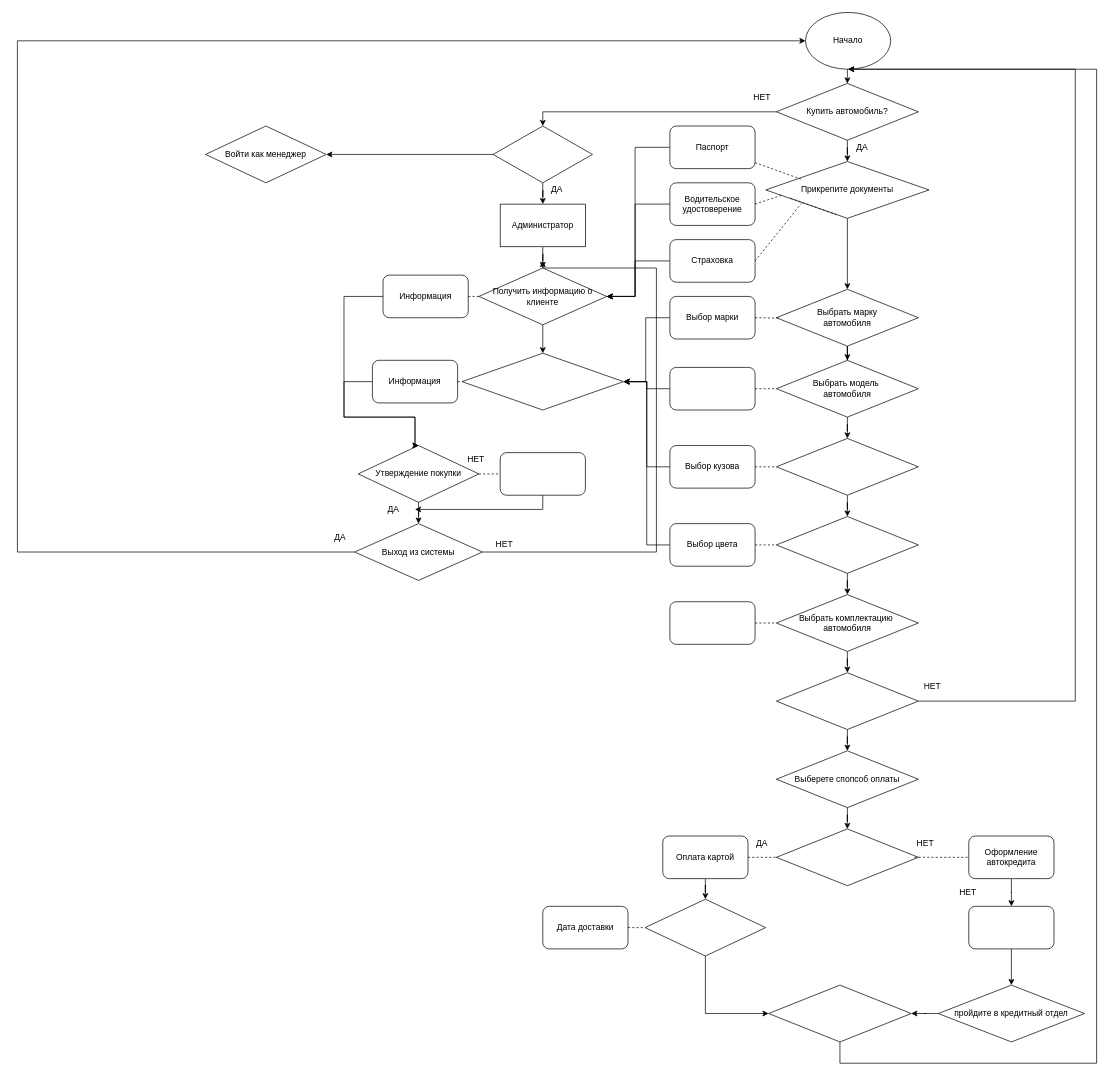
This 1115x1081 diagram has some shape labels left out. The centre of each missing label's shape, as x and y in pixels:
"Войти как администратор?" belongs at point 542,154.
"Выберите дату доставки" belongs at point 705,927.
"Выбор комплектации" belongs at point 712,622.
"Выбор модели" belongs at point 712,388.
"Выбрать кузов автомобиля" belongs at point 847,466.
"Выбрать цвет автомобиля" belongs at point 847,544.
"Готовы осуществить покупку*" belongs at point 847,701.
"Закончить покупку" belongs at point 839,1013.
"Комментарий" belongs at point 542,473.
"Оплатить картой" belongs at point 847,857.
"Оформление лизинга" belongs at point 1011,927.
"Получение информации об автомобиле" belongs at point 542,381.
